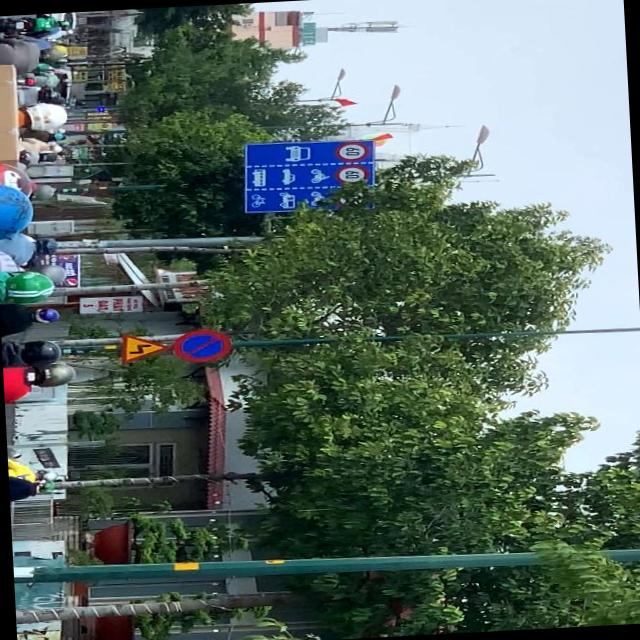P-131a: (173, 329, 230, 362)
W-202a: (118, 331, 172, 363)
